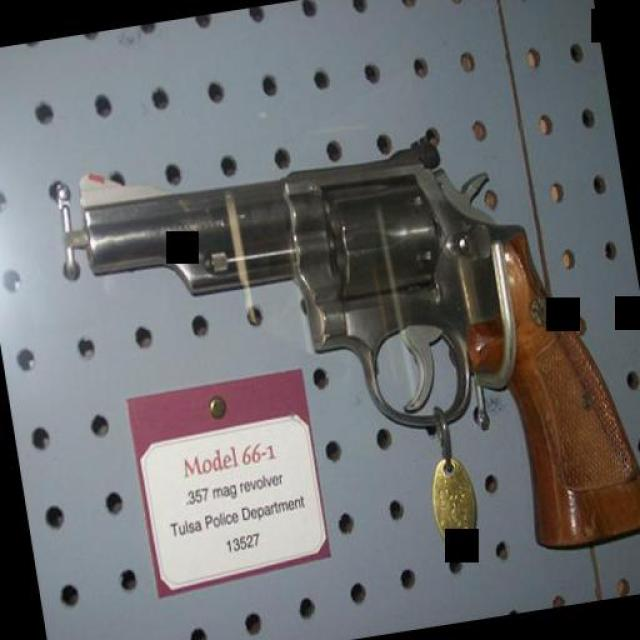gun: (74, 98, 640, 612)
